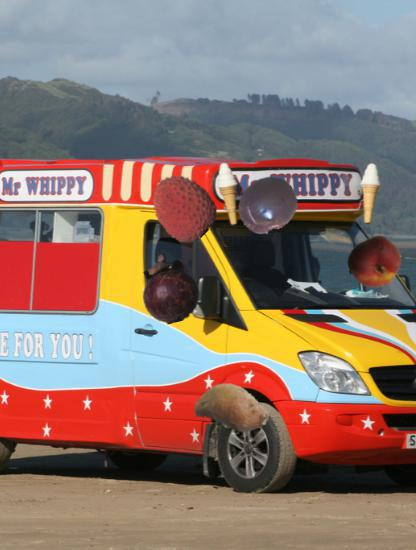Lychee: (148, 173, 218, 243)
Mangostan: (133, 251, 205, 323)
Nectarine: (348, 236, 402, 290)
Passion: (236, 175, 298, 237)
Potato: (195, 369, 272, 446)
